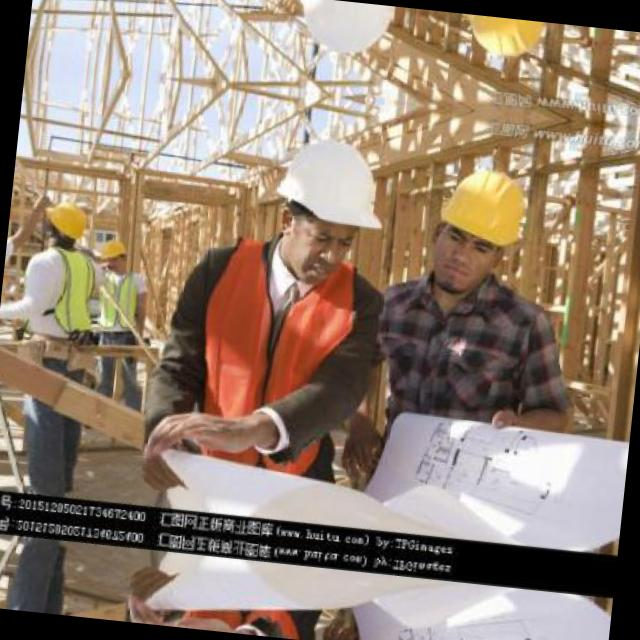helmet: (266, 128, 388, 290), (423, 158, 533, 298), (289, 0, 402, 65), (446, 12, 550, 67), (39, 193, 90, 250), (94, 235, 130, 275)
